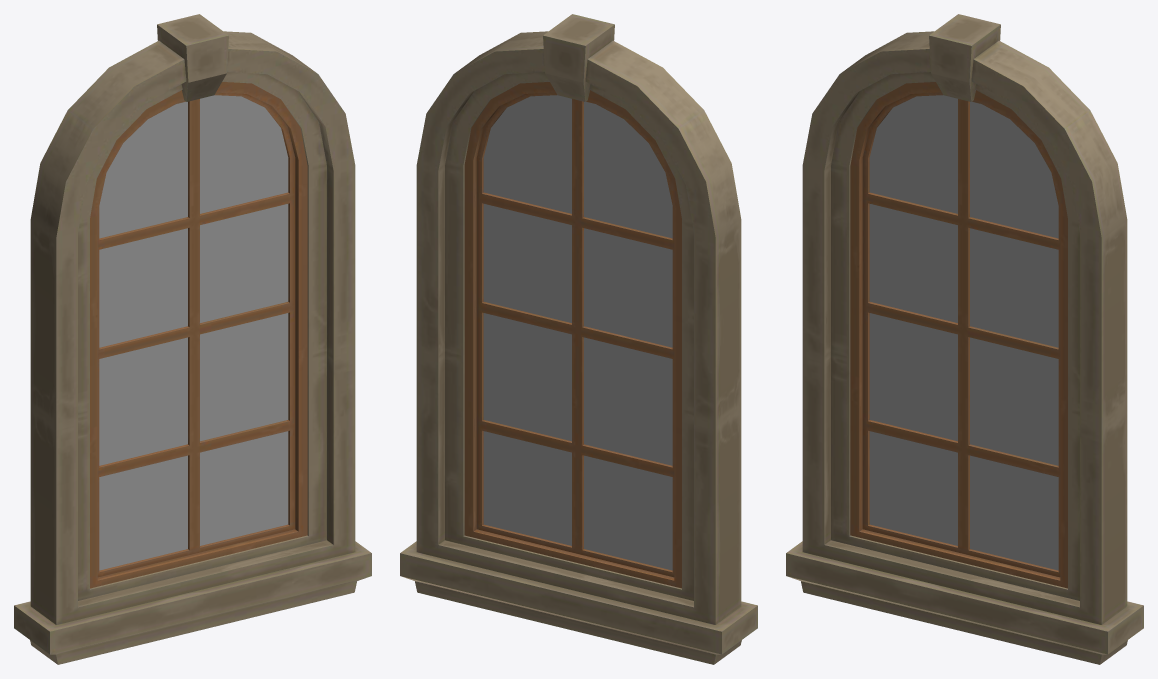
File: ARC0510041.fbx
3 renders of one model, left to right at view 1: azimuth 30°, elevation 25°; view 2: azimuth 150°, elevation 25°; view 3: azimuth 330°, elevation 25°, orthographic.
Parts seen in each view (by area): view 1: smARC0510041; view 2: smARC0510041; view 3: smARC0510041.
Part boxes in pixels (x1,y1,x2,y2): smARC0510041: [14, 14, 371, 664]; smARC0510041: [400, 14, 757, 664]; smARC0510041: [786, 14, 1143, 664].
Size of the model in its own units: 164 by 287 by 31.74.
2 materials, 1 textured.
